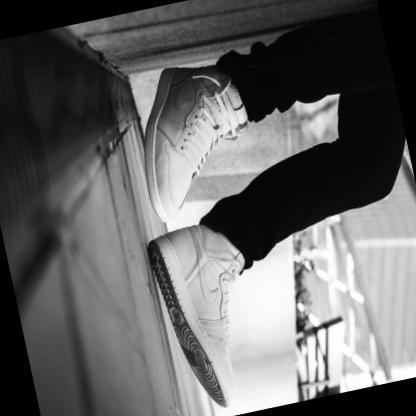ankle: (206, 72, 212, 80), (210, 246, 217, 252)
heel: (170, 240, 177, 248), (173, 69, 179, 74)
left_foot: (150, 219, 264, 416)
pinky: (154, 158, 161, 165), (230, 373, 233, 377)
right_foot: (126, 55, 257, 225)
toe: (175, 205, 182, 212), (225, 385, 230, 392)
